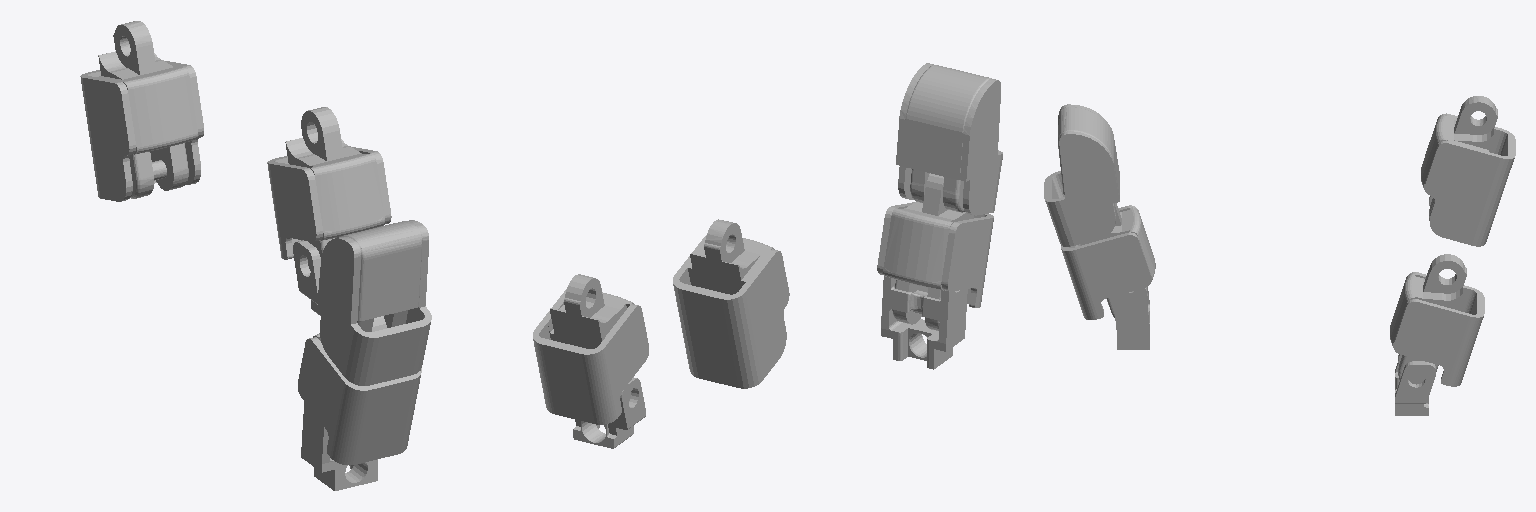
robot.urdf — heri:
<?xml version="1.0" ?>
<!-- =================================================================================== -->
<!-- |    This document was autogenerated by xacro from heri.xacro                     | -->
<!-- |    EDITING THIS FILE BY HAND IS NOT RECOMMENDED                                 | -->
<!-- =================================================================================== -->
<robot name="heri" xmlns:xacro="http://ros.org/wiki/xacro">
  <!-- rosee plugin -->
  <gazebo>
    <plugin filename="libRoseePlugin.so" name="heri_controller">
      </plugin>
  </gazebo>
  <!-- /////////////////////////////////   Gazebo   ////////////////////////////////////// -->
  <gazebo reference="base_link">
    <fudgeFactor value="0.5"/>
    <material>Gazebo/Red</material>
  </gazebo>
  <gazebo reference="SFB1">
    <fudgeFactor value="0.5"/>
    <material>Gazebo/White</material>
  </gazebo>
  <gazebo reference="SFB1_1">
    <fudgeFactor value="0.5"/>
    <material>Gazebo/White</material>
  </gazebo>
  <gazebo reference="SFP1_2">
    <fudgeFactor value="0.5"/>
    <material>Gazebo/Blue</material>
  </gazebo>
  <gazebo reference="LFB1">
    <fudgeFactor value="0.5"/>
    <material>Gazebo/White</material>
  </gazebo>
  <gazebo reference="LFP1_1">
    <fudgeFactor value="0.5"/>
    <material>Gazebo/White</material>
  </gazebo>
  <gazebo reference="LFP1_2">
    <fudgeFactor value="0.5"/>
    <material>Gazebo/White</material>
  </gazebo>
  <gazebo reference="LFP1_3">
    <fudgeFactor value="0.5"/>
    <material>Gazebo/Blue</material>
  </gazebo>
  <gazebo reference="LFB2">
    <fudgeFactor value="0.5"/>
    <material>Gazebo/White</material>
  </gazebo>
  <gazebo reference="LFP2_1">
    <fudgeFactor value="0.5"/>
    <material>Gazebo/White</material>
  </gazebo>
  <gazebo reference="LFP2_2">
    <fudgeFactor value="0.5"/>
    <material>Gazebo/White</material>
  </gazebo>
  <gazebo reference="LFP2_3">
    <fudgeFactor value="0.5"/>
    <material>Gazebo/Blue</material>
  </gazebo>
  <material name="Black">
    <color rgba="0 0 0 1"/>
  </material>
  <material name="White">
    <color rgba="1 1 1 1"/>
  </material>
  <material name="Blue">
    <color rgba="0 0 1 1"/>
  </material>
  <material name="Red">
    <color rgba="1 0 0 1"/>
  </material>
  <!-- ///////////////////////////////////////   Short Finger   ////////////////////////////////////////// -->
  <!-- ///////////////////////////////////////   base_link   ////////////////////////////////////////// -->
  <link name="world"/>
  <joint name="world_base" type="fixed">
    <origin rpy="0 0 0" xyz="0 0 0.015"/>
    <parent link="world"/>
    <child link="base_link"/>
  </joint>
  <link name="base_link">
    <inertial>
      <origin rpy="0 0 0" xyz="0.00030739 0.003138 -0.0012876"/>
      <mass value="0.73864"/>
      <inertia ixx="0.01" ixy="0" ixz="0" iyy="0.01" iyz="0" izz="0.01"/>
    </inertial>
    <visual>
      <origin rpy="0 0 0" xyz="0 0 0"/>
      <geometry>
        <mesh filename="package://heri_description/meshes/base_link.STL"/>
      </geometry>
      <material name="">
        <color rgba="0.75294 0.75294 0.75294 1"/>
      </material>
    </visual>
    <collision>
      <origin rpy="0 0 0" xyz="0 0 0"/>
      <geometry>
        <mesh filename="package://heri_description/meshes/base_link.STL"/>
      </geometry>
    </collision>
  </link>
  <!-- ///////////////////////////////////////   Base_Link of the short_finger   ////////////////////////////////////////// -->
  <link name="SFB1">
    <inertial>
      <origin rpy="0 0 0" xyz="0.000045491656 -0.0037522651 0.0064111226"/>
      <mass value="0.0039598861"/>
      <inertia ixx="0.01" ixy="0" ixz="0" iyy="0.01" iyz="0" izz="0.01"/>
    </inertial>
    <visual>
      <origin rpy="0 0 0" xyz="0 0 0"/>
      <geometry>
        <mesh filename="package://heri_description/meshes/SFB1.STL"/>
      </geometry>
      <material name="">
        <color rgba="0.75294 0.75294 0.75294 1"/>
      </material>
    </visual>
    <collision>
      <origin rpy="0 0 0" xyz="0 0 0"/>
      <geometry>
        <mesh filename="package://heri_description/meshes/SFB1.STL"/>
      </geometry>
    </collision>
  </link>
  <!-- ///////////////////////////////////////   Joint of BASE and the base_link of the short finger   ////////////////////////////////////////// -->
  <joint name="BASE__SFB1" type="revolute">
    <origin rpy="1.5708 -1.5708 0" xyz="-0.0167 -0.0405 0.0635"/>
    <parent link="base_link"/>
    <child link="SFB1"/>
    <axis xyz="0 0 1"/>
    <limit effort="10" lower="-0.1" upper="0.1" velocity="1"/>
    <dynamics damping="0.7"/>
  </joint>
  <!-- ///////////////////////////////////////   First phalanx of the Short_Finger   ////////////////////////////////////////// -->
  <link name="SFB1_1">
    <inertial>
      <origin rpy="0 0 0" xyz="0.013537693 -0.00011389541 0.00014514898"/>
      <mass value="0.021630428"/>
      <inertia ixx="0.01" ixy="0" ixz="0" iyy="0.01" iyz="0" izz="0.01"/>
    </inertial>
    <visual>
      <origin rpy="0 0 0" xyz="0 0 0"/>
      <geometry>
        <mesh filename="package://heri_description/meshes/SFB1_1.STL"/>
      </geometry>
      <material name="">
        <color rgba="0.75294 0.75294 0.75294 1"/>
      </material>
    </visual>
    <collision>
      <origin rpy="0 0 0" xyz="0 0 0"/>
      <geometry>
        <mesh filename="package://heri_description/meshes/SFB1_1.STL"/>
      </geometry>
    </collision>
  </link>
  <!-- ///////////////////////////////////////   Joint of base_link and the first phalanx of the short finger   ////////////////////////////////////////// -->
  <joint name="SFB1__SFP1_1" type="revolute">
    <origin rpy="1.5708 -0.29671 0" xyz="0.011 0 0.007"/>
    <parent link="SFB1"/>
    <child link="SFB1_1"/>
    <axis xyz="0 0 -1"/>
    <limit effort="10" lower="-0.1" upper="0.5" velocity="1"/>
    <dynamics damping="0.7"/>
  </joint>
  <!-- ///////////////////////////////////////   Tip phalanx of the short finger   ////////////////////////////////////////// -->
  <link name="SFP1_2">
    <inertial>
      <origin rpy="0 0 0" xyz="0.012398348 -0.00034958691 0.000050212619"/>
      <mass value="0.02226615"/>
      <inertia ixx="0.01" ixy="0" ixz="0" iyy="0.01" iyz="0" izz="0.01"/>
    </inertial>
    <visual>
      <origin rpy="0 0 0" xyz="0 0 0"/>
      <geometry>
        <mesh filename="package://heri_description/meshes/SFP1_2.STL"/>
      </geometry>
      <material name="">
        <color rgba="0.75294 0.75294 0.75294 1"/>
      </material>
    </visual>
    <collision>
      <origin rpy="0 0 0" xyz="0 0 0"/>
      <geometry>
        <mesh filename="package://heri_description/meshes/SFP1_2.STL"/>
      </geometry>
    </collision>
  </link>
  <!-- ///////////////////////////////////////   Joint of first and tip phalanxs of the short finger   ////////////////////////////////////////// -->
  <joint name="SFP1_1__SFP1_2" type="revolute">
    <origin rpy="0 0 0" xyz="0.035 0 0"/>
    <parent link="SFB1_1"/>
    <child link="SFP1_2"/>
    <axis xyz="0 0 -1"/>
    <limit effort="10" lower="-0.1" upper="0.5" velocity="1"/>
    <dynamics damping="0.7"/>
    <mimic joint="SFB1__SFP1_1" multiplier="1" offset="0"/>
  </joint>
  <gazebo>
    <plugin filename="libroboticsgroup_gazebo_mimic_joint_plugin.so" name="SFP1_1__SFP1_2_jointmimic_joint_plugin">
      <joint>SFB1__SFP1_1</joint>
      <mimicJoint>SFP1_1__SFP1_2</mimicJoint>
      <multiplier>1.0</multiplier>
      <offset>0</offset>
      <sensitiveness>0.0</sensitiveness>
      <!-- if absolute difference between setpoint and process value is below this threshold, do nothing; 0.0 = disable [rad] -->
      <maxEffort>10.0</maxEffort>
    </plugin>
  </gazebo>
  <!-- ///////////////////////////////////////   Long finger 1   ////////////////////////////////////////// -->
  <!-- ///////////////////////////////////////   Base_Link of the long_finger   ////////////////////////////////////////// -->
  <link name="LFB1">
    <inertial>
      <origin rpy="0 0 0" xyz="0.000045491656 -0.0037522651 0.0064111226"/>
      <mass value="0.0039598861"/>
      <inertia ixx="0.01" ixy="0" ixz="0" iyy="0.01" iyz="0" izz="0.01"/>
    </inertial>
    <visual>
      <origin rpy="0 0 0" xyz="0 0 0"/>
      <geometry>
        <mesh filename="package://heri_description/meshes/LFB1.STL"/>
      </geometry>
      <material name="">
        <color rgba="0.75294 0.75294 0.75294 1"/>
      </material>
    </visual>
    <collision>
      <origin rpy="0 0 0" xyz="0 0 0"/>
      <geometry>
        <mesh filename="package://heri_description/meshes/LFB1.STL"/>
      </geometry>
    </collision>
  </link>
  <!-- ///////////////////////////////////////   Joint of BASE and the base_link of the short finger   ////////////////////////////////////////// -->
  <joint name="BASE__LFB1" type="revolute">
    <origin rpy="1.5708 -1.5708 3.1415927" xyz="-0.0167 0.0405 0.0635"/>
    <parent link="base_link"/>
    <child link="LFB1"/>
    <axis xyz="0 0 1"/>
    <limit effort="10" lower="-0.1" upper="0.1" velocity="1"/>
    <dynamics damping="0.7"/>
  </joint>
  <!-- ///////////////////////////////////////   First phalanx of the Long_Finger   ////////////////////////////////////////// -->
  <link name="LFP1_1">
    <inertial>
      <origin rpy="0 0 0" xyz="0.013537693 -0.00011389541 0.00014514898"/>
      <mass value="0.021630428"/>
      <inertia ixx="0.01" ixy="0" ixz="0" iyy="0.01" iyz="0" izz="0.01"/>
    </inertial>
    <visual>
      <origin rpy="0 0 0" xyz="0 0 0"/>
      <geometry>
        <mesh filename="package://heri_description/meshes/LFP1_1.STL"/>
      </geometry>
      <material name="">
        <color rgba="0.75294 0.75294 0.75294 1"/>
      </material>
    </visual>
    <collision>
      <origin rpy="0 0 0" xyz="0 0 0"/>
      <geometry>
        <mesh filename="package://heri_description/meshes/LFP1_1.STL"/>
      </geometry>
    </collision>
  </link>
  <!-- ///////////////////////////////////////   Joint of base_link and the first phalanx of the short finger   ////////////////////////////////////////// -->
  <joint name="LFB1__LFP1_1" type="revolute">
    <origin rpy="1.5708 -0.29671 0" xyz="0.011 0 0.007"/>
    <parent link="LFB1"/>
    <child link="LFP1_1"/>
    <axis xyz="0 0 -1"/>
    <limit effort="10" lower="-0.1" upper="0.5" velocity="1"/>
    <dynamics damping="0.7"/>
  </joint>
  <!-- ///////////////////////////////////////   Second phalanx of the Long_Finger   ////////////////////////////////////////// -->
  <link name="LFP1_2">
    <inertial>
      <origin rpy="0 0 0" xyz="0.012816858 0.00029615072 0.00012767631"/>
      <mass value="0.022869549"/>
      <inertia ixx="0.01" ixy="0" ixz="0" iyy="0.01" iyz="0" izz="0.01"/>
    </inertial>
    <visual>
      <origin rpy="0 0 0" xyz="0 0 0"/>
      <geometry>
        <mesh filename="package://heri_description/meshes/LFP1_2.STL"/>
      </geometry>
      <material name="">
        <color rgba="0.75294 0.75294 0.75294 1"/>
      </material>
    </visual>
    <collision>
      <origin rpy="0 0 0" xyz="0 0 0"/>
      <geometry>
        <mesh filename="package://heri_description/meshes/LFP1_2.STL"/>
      </geometry>
    </collision>
  </link>
  <!-- ///////////////////////////////////////   Joint of base_link and the first phalanx of the short finger   ////////////////////////////////////////// -->
  <joint name="LFP1_1__LFP1_2" type="revolute">
    <origin rpy="0 0 0" xyz="0.035 0 0"/>
    <parent link="LFP1_1"/>
    <child link="LFP1_2"/>
    <axis xyz="0 0 -1"/>
    <limit effort="10" lower="-0.1" upper="0.5" velocity="1"/>
    <dynamics damping="0.7"/>
    <mimic joint="LFB1__LFP1_1" multiplier="1" offset="0"/>
  </joint>
  <gazebo>
    <plugin filename="libroboticsgroup_gazebo_mimic_joint_plugin.so" name="LFP1_1__LFP1_2_jointmimic_joint_plugin">
      <joint>LFB1__LFP1_1</joint>
      <mimicJoint>LFP1_1__LFP1_2</mimicJoint>
      <multiplier>1.0</multiplier>
      <offset>0</offset>
      <sensitiveness>0.0</sensitiveness>
      <!-- if absolute difference between setpoint and process value is below this threshold, do nothing; 0.0 = disable [rad] -->
      <maxEffort>10.0</maxEffort>
    </plugin>
  </gazebo>
  <!-- ///////////////////////////////////////   Tip phalanx of the long finger   ////////////////////////////////////////// -->
  <link name="LFP1_3">
    <inertial>
      <origin rpy="0 0 0" xyz="0.012398348 -0.00034958691 0.000050212619"/>
      <mass value="0.02226615"/>
      <inertia ixx="0.01" ixy="0" ixz="0" iyy="0.01" iyz="0" izz="0.01"/>
    </inertial>
    <visual>
      <origin rpy="0 0 0" xyz="0 0 0"/>
      <geometry>
        <mesh filename="package://heri_description/meshes/LFP1_3.STL"/>
      </geometry>
      <material name="">
        <color rgba="0.75294 0.75294 0.75294 1"/>
      </material>
    </visual>
    <collision>
      <origin rpy="0 0 0" xyz="0 0 0"/>
      <geometry>
        <mesh filename="package://heri_description/meshes/LFP1_3.STL"/>
      </geometry>
    </collision>
  </link>
  <!-- ///////////////////////////////////////   Joint of second and tip phalanxs of the long finger   ////////////////////////////////////////// -->
  <joint name="LFP1_2__LFP1_3" type="revolute">
    <origin rpy="0 0 0" xyz="0.035 0 0"/>
    <parent link="LFP1_2"/>
    <child link="LFP1_3"/>
    <axis xyz="0 0 -1"/>
    <limit effort="10" lower="-0.1" upper="0.5" velocity="1"/>
    <dynamics damping="0.7"/>
    <mimic joint="LFB1__LFP1_1" multiplier="1" offset="0"/>
  </joint>
  <gazebo>
    <plugin filename="libroboticsgroup_gazebo_mimic_joint_plugin.so" name="LFP1_1__LFP1_3_jointmimic_joint_plugin">
      <joint>LFB1__LFP1_1</joint>
      <mimicJoint>LFP1_2__LFP1_3</mimicJoint>
      <multiplier>1.0</multiplier>
      <offset>0</offset>
      <sensitiveness>0.0</sensitiveness>
      <!-- if absolute difference between setpoint and process value is below this threshold, do nothing; 0.0 = disable [rad] -->
      <maxEffort>10.0</maxEffort>
    </plugin>
  </gazebo>
  <!-- ///////////////////////////////////////   Long finger 2   ////////////////////////////////////////// -->
  <!-- ///////////////////////////////////////   Base_Link of the long_finger   ////////////////////////////////////////// -->
  <link name="LFB2">
    <inertial>
      <origin rpy="0 0 0" xyz="0.000045491656 -0.0037522651 0.0064111226"/>
      <mass value="0.0039598861"/>
      <inertia ixx="0.1" ixy="0" ixz="0" iyy="0.1" iyz="0" izz="0.1"/>
    </inertial>
    <visual>
      <origin rpy="0 0 0" xyz="0 0 0"/>
      <geometry>
        <mesh filename="package://heri_description/meshes/LFB2.STL"/>
      </geometry>
      <material name="">
        <color rgba="0.75294 0.75294 0.75294 1"/>
      </material>
    </visual>
    <collision>
      <origin rpy="0 0 0" xyz="0 0 0"/>
      <geometry>
        <mesh filename="package://heri_description/meshes/LFB2.STL"/>
      </geometry>
    </collision>
  </link>
  <!-- ///////////////////////////////////////   Joint of BASE and the base_link of the short finger   ////////////////////////////////////////// -->
  <joint name="BASE__LFB2" type="revolute">
    <origin rpy="1.5708 -1.5708 3.1415927" xyz="0.0353 0.0405 0.0635"/>
    <parent link="base_link"/>
    <child link="LFB2"/>
    <axis xyz="0 0 1"/>
    <limit effort="10" lower="-0.1" upper="0.1" velocity="1"/>
    <dynamics damping="0.7"/>
  </joint>
  <!-- ///////////////////////////////////////   First phalanx of the Long_Finger   ////////////////////////////////////////// -->
  <link name="LFP2_1">
    <inertial>
      <origin rpy="0 0 0" xyz="0.013537693 -0.00011389541 0.00014514898"/>
      <mass value="0.021630428"/>
      <inertia ixx="0.01" ixy="0" ixz="0" iyy="0.01" iyz="0" izz="0.01"/>
    </inertial>
    <visual>
      <origin rpy="0 0 0" xyz="0 0 0"/>
      <geometry>
        <mesh filename="package://heri_description/meshes/LFP2_1.STL"/>
      </geometry>
      <material name="">
        <color rgba="0.75294 0.75294 0.75294 1"/>
      </material>
    </visual>
    <collision>
      <origin rpy="0 0 0" xyz="0 0 0"/>
      <geometry>
        <mesh filename="package://heri_description/meshes/LFP2_1.STL"/>
      </geometry>
    </collision>
  </link>
  <!-- ///////////////////////////////////////   Joint of base_link and the first phalanx of the short finger   ////////////////////////////////////////// -->
  <joint name="LFB2__LFP2_1" type="revolute">
    <origin rpy="1.5708 -0.29671 0" xyz="0.011 0 0.007"/>
    <parent link="LFB2"/>
    <child link="LFP2_1"/>
    <axis xyz="0 0 -1"/>
    <limit effort="10" lower="-0.1" upper="0.5" velocity="1"/>
    <dynamics damping="0.7"/>
  </joint>
  <!-- ///////////////////////////////////////   Second phalanx of the Long_Finger   ////////////////////////////////////////// -->
  <link name="LFP2_2">
    <inertial>
      <origin rpy="0 0 0" xyz="0.012816858 0.00029615072 0.00012767631"/>
      <mass value="0.022869549"/>
      <inertia ixx="0.01" ixy="0" ixz="0" iyy="0.01" iyz="0" izz="0.01"/>
    </inertial>
    <visual>
      <origin rpy="0 0 0" xyz="0 0 0"/>
      <geometry>
        <mesh filename="package://heri_description/meshes/LFP2_2.STL"/>
      </geometry>
      <material name="">
        <color rgba="0.75294 0.75294 0.75294 1"/>
      </material>
    </visual>
    <collision>
      <origin rpy="0 0 0" xyz="0 0 0"/>
      <geometry>
        <mesh filename="package://heri_description/meshes/LFP2_2.STL"/>
      </geometry>
    </collision>
  </link>
  <!-- ///////////////////////////////////////   Joint of base_link and the first phalanx of the short finger   ////////////////////////////////////////// -->
  <joint name="LFP2_1__LFP2_2" type="revolute">
    <origin rpy="0 0 0" xyz="0.035 0 0"/>
    <parent link="LFP2_1"/>
    <child link="LFP2_2"/>
    <axis xyz="0 0 -1"/>
    <limit effort="10" lower="-0.1" upper="0.5" velocity="1"/>
    <dynamics damping="0.7"/>
    <mimic joint="LFB2__LFP2_1" multiplier="1" offset="0"/>
  </joint>
  <gazebo>
    <plugin filename="libroboticsgroup_gazebo_mimic_joint_plugin.so" name="LFP2_1__LFP2_2_jointmimic_joint_plugin">
      <joint>LFB2__LFP2_1</joint>
      <mimicJoint>LFP2_1__LFP2_2</mimicJoint>
      <multiplier>1.0</multiplier>
      <offset>0</offset>
      <sensitiveness>0.0</sensitiveness>
      <!-- if absolute difference between setpoint and process value is below this threshold, do nothing; 0.0 = disable [rad] -->
      <maxEffort>10.0</maxEffort>
    </plugin>
  </gazebo>
  <!-- ///////////////////////////////////////   Tip phalanx of the long finger   ////////////////////////////////////////// -->
  <link name="LFP2_3">
    <inertial>
      <origin rpy="0 0 0" xyz="0.012398348 -0.00034958691 0.000050212619"/>
      <mass value="0.02226615"/>
      <inertia ixx="0.01" ixy="0" ixz="0" iyy="0.01" iyz="0" izz="0.01"/>
    </inertial>
    <visual>
      <origin rpy="0 0 0" xyz="0 0 0"/>
      <geometry>
        <mesh filename="package://heri_description/meshes/LFP2_3.STL"/>
      </geometry>
      <material name="">
        <color rgba="0.75294 0.75294 0.75294 1"/>
      </material>
    </visual>
    <collision>
      <origin rpy="0 0 0" xyz="0 0 0"/>
      <geometry>
        <mesh filename="package://heri_description/meshes/LFP2_3.STL"/>
      </geometry>
    </collision>
  </link>
  <!-- ///////////////////////////////////////   Joint of second and tip phalanxs of the long finger   ////////////////////////////////////////// -->
  <joint name="LFP2_2__LFP2_3" type="revolute">
    <origin rpy="0 0 0" xyz="0.035 0 0"/>
    <parent link="LFP2_2"/>
    <child link="LFP2_3"/>
    <axis xyz="0 0 -1"/>
    <limit effort="10" lower="-0.1" upper="0.5" velocity="1"/>
    <dynamics damping="0.7"/>
    <mimic joint="LFB2__LFP2_1" multiplier="1" offset="0"/>
  </joint>
  <gazebo>
    <plugin filename="libroboticsgroup_gazebo_mimic_joint_plugin.so" name="LFP2_2__LFP2_3_jointmimic_joint_plugin">
      <joint>LFB2__LFP2_1</joint>
      <mimicJoint>LFP2_2__LFP2_3</mimicJoint>
      <multiplier>1.0</multiplier>
      <offset>0</offset>
      <sensitiveness>0.0</sensitiveness>
      <!-- if absolute difference between setpoint and process value is below this threshold, do nothing; 0.0 = disable [rad] -->
      <maxEffort>10.0</maxEffort>
    </plugin>
  </gazebo>
</robot>

--- What the picture shows (computed from the rendered views, not written in the file) ---
Views: 3 orthographic renders of the robot side by side, from view 1: azimuth 30°, elevation 25°; view 2: azimuth 150°, elevation 25°; view 3: azimuth 270°, elevation 25°.
Robot: heri — 13 links, 12 joints (11 revolute, 1 fixed); root link world; default pose: every joint at zero.
Visible links, largest first — view 1: LFP1_2, SFP1_2, LFP2_1, SFB1_1, SFB1, LFB2; view 2: LFP1_2, SFP1_2, LFP2_1, SFB1_1, SFB1, LFB2; view 3: LFP1_2, LFP2_1, SFP1_2, SFB1_1, SFB1, LFB2.
Link boxes in pixels (x1,y1,x2,y2): LFP1_2: (80,21,203,201); SFP1_2: (317,220,431,385); LFP2_1: (267,107,391,270); SFB1_1: (298,316,421,465); SFB1: (301,402,377,490); LFB2: (293,240,321,315); LFP1_2: (673,219,789,388); SFP1_2: (896,63,1002,215); LFP2_1: (533,274,648,424); SFB1_1: (877,173,993,330); SFB1: (881,276,967,369); LFB2: (573,377,645,448); LFP1_2: (1421,96,1515,246); LFP2_1: (1390,254,1484,386); SFP1_2: (1044,104,1119,246); SFB1_1: (1061,203,1155,319); SFB1: (1113,287,1149,349); LFB2: (1395,361,1435,415).
Size in the robot's own frame: 0.0752 by 0.1555 by 0.0884 metres.
Meshes: 12 distinct files referenced, 6 mesh visuals loaded (6 binary STL); not drawn: 6 (reference not matched to a file when rendering).
